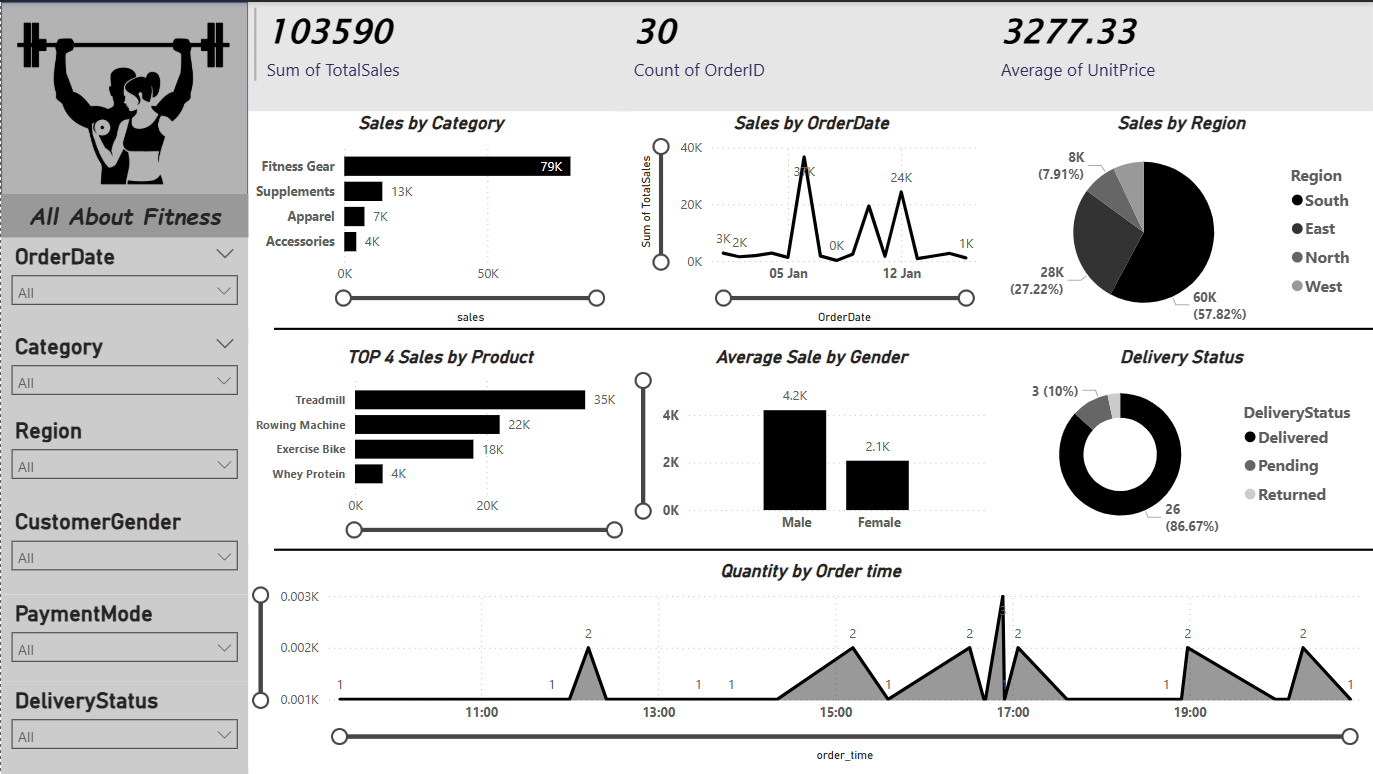

Layout of this report page (visuals, bound fields, positions):
{"tool":"powerbi","page":{"name":"Page 1","canvas":[1280,720],"ordinal":0},"visuals":[{"type":"shape","box":[0,0,230.6,219.2],"z":0},{"type":"image","box":[9.8,14,208.4,165.1],"z":1000},{"type":"multiRowCard","fields":{"Values":["Sum(Table2.TotalSales)","CountNonNull(Table2.OrderID)","Avg(Table2.UnitPrice)"]},"box":[230.6,0,1048.8,102],"z":2000},{"type":"slicer","fields":{"Values":["Table2.OrderDate"]},"box":[0,219.2,230.6,85],"z":3000},{"type":"slicer","fields":{"Values":["Table2.Category"]},"box":[0,304.3,230.6,79.4],"z":4000},{"type":"slicer","fields":{"Values":["Table2.Region"]},"box":[0,381.9,230.8,85.3],"z":5000},{"type":"slicer","fields":{"Values":["Table2.CustomerGender"]},"box":[0,467.3,230.8,85.3],"z":6000},{"type":"slicer","fields":{"Values":["Table2.PaymentMode"]},"box":[0,552.6,230.8,81.1],"z":7000},{"type":"slicer","fields":{"Values":["Table2.DeliveryStatus"]},"box":[0,633.7,230.8,86.7],"z":8000},{"type":"clusteredBarChart","title":"Sales by Category","fields":{"Category":["Table2.Category"],"Y":["Sum(Table2.TotalSales)"]},"box":[230.6,102,340.2,202.2],"z":9000},{"type":"lineChart","title":"Sales by OrderDate","fields":{"Category":["Table2.OrderDate"],"Y":["Sum(Table2.TotalSales)"]},"box":[587.7,102,336.4,202.2],"z":10000},{"type":"pieChart","title":"Sales by Region","fields":{"Category":["Table2.Region"],"Y":["Sum(Table2.TotalSales)"]},"box":[923.7,102.6,355.3,205.3],"z":11000},{"type":"barChart","title":"TOP 4 Sales by Product","fields":{"Category":["Table2.Product"],"Y":["Sum(Table2.TotalSales)"]},"box":[230.5,320.5,356.8,183.2],"z":12000},{"type":"columnChart","title":"Average Sale by Gender","fields":{"Category":["Table2.CustomerGender"],"Y":["Avg(Table2.UnitPrice)"]},"box":[587.4,320.5,336.3,183.2],"z":13000},{"type":"donutChart","title":"Delivery Status","fields":{"Category":["Table2.DeliveryStatus"],"Y":["CountNonNull(Table2.OrderID)"]},"box":[923.7,320.5,355.3,183.2],"z":14000},{"type":"lineChart","title":"Quantity by Order time","fields":{"Category":["Table2.order_time"],"Y":["Sum(Table2.Quantity)"]},"box":[230.5,521.1,1048.4,192.6],"z":15000},{"type":"shape","box":[254.4,287.7,1025.1,33.3],"z":16000},{"type":"shape","box":[254.4,489.1,1025.1,42.4],"z":17000},{"type":"textbox","box":[0,179.1,230.8,40.6],"z":18000}]}

Visuals, with their boxes in screenshot pixels (x1, y1, x2, y2), scaled from the page's 1280x720 canvas onto the 1373x774 screenshot:
shape: 0, 0, 247, 236
image: 11, 15, 234, 193
multiRowCard - Sum(Table2.TotalSales) x CountNonNull(Table2.OrderID): 247, 0, 1372, 110
slicer - Table2.OrderDate: 0, 236, 247, 327
slicer - Table2.Category: 0, 327, 247, 412
slicer - Table2.Region: 0, 411, 248, 502
slicer - Table2.CustomerGender: 0, 502, 248, 594
slicer - Table2.PaymentMode: 0, 594, 248, 681
slicer - Table2.DeliveryStatus: 0, 681, 248, 773
"Sales by Category" clusteredBarChart: 247, 110, 612, 327
"Sales by OrderDate" lineChart: 630, 110, 991, 327
"Sales by Region" pieChart: 991, 110, 1372, 331
"TOP 4 Sales by Product" barChart: 247, 345, 630, 541
"Average Sale by Gender" columnChart: 630, 345, 991, 541
"Delivery Status" donutChart: 991, 345, 1372, 541
"Quantity by Order time" lineChart: 247, 560, 1372, 767
shape: 273, 309, 1372, 345
shape: 273, 526, 1372, 571
textbox: 0, 193, 248, 236
